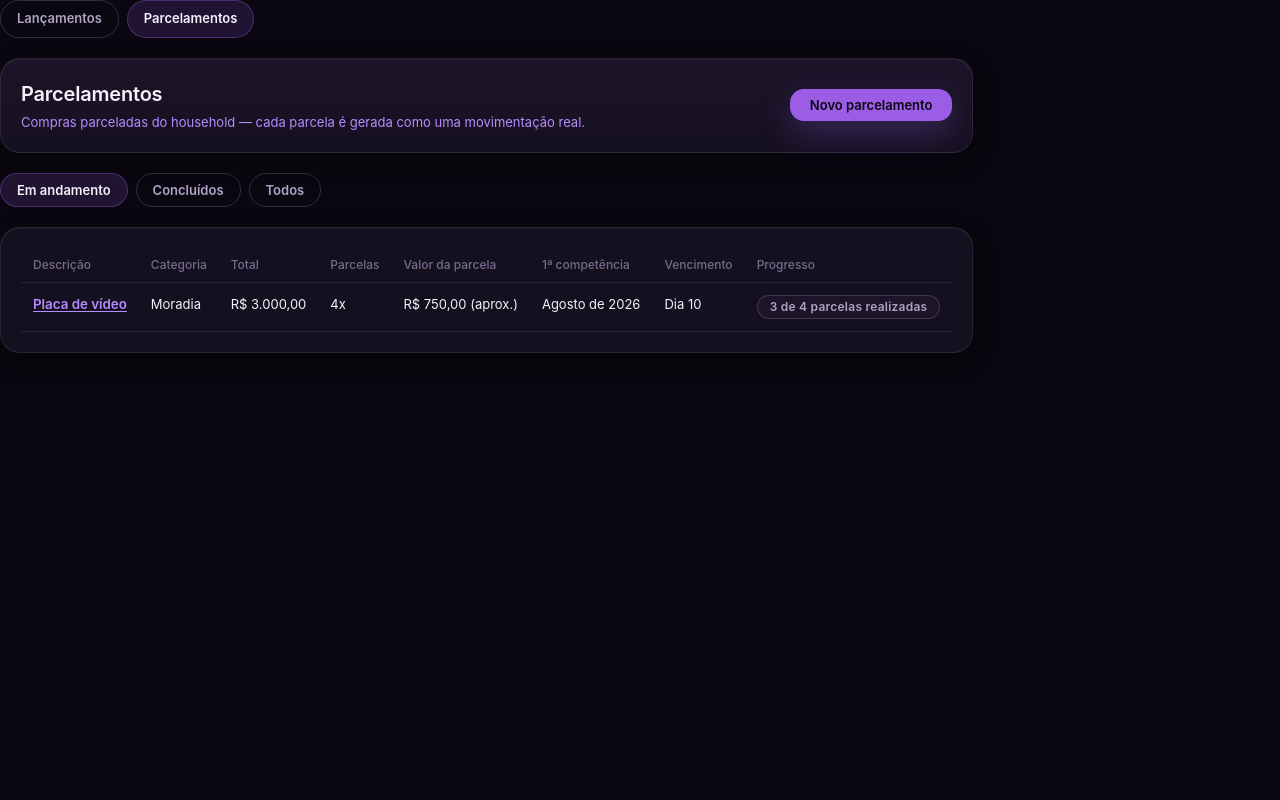
InstallmentPlansPage — realizar parcela a partir do detalhe do parcelamento (integração Parcelamentos ↔ Lançamentos) › a última parcela realizada (3/4 → 4/4) faz o plano sair de "Em andamento" e aparecer em "Concluídos"
This screenshot has width=1280, height=800.
Click the button "Placa de vídeo".
click(80, 304)  # box top-left (33, 296), bottom-right (127, 312)
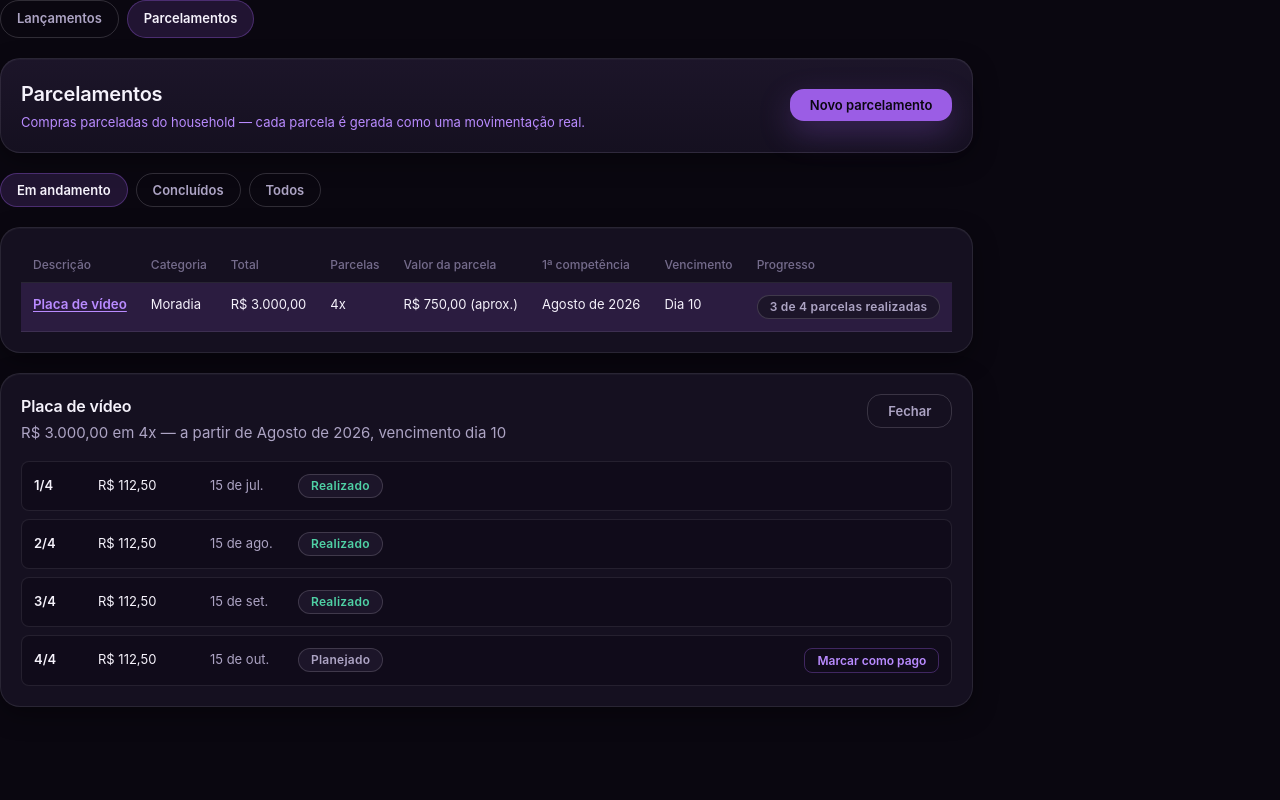
Result: the button with aria-label "Marcar parcela 4 de 4 como paga" is shown
Click the button with aria-label "Marcar parcela 4 de 4 como paga".
click(872, 660)  # box top-left (804, 648), bottom-right (939, 672)
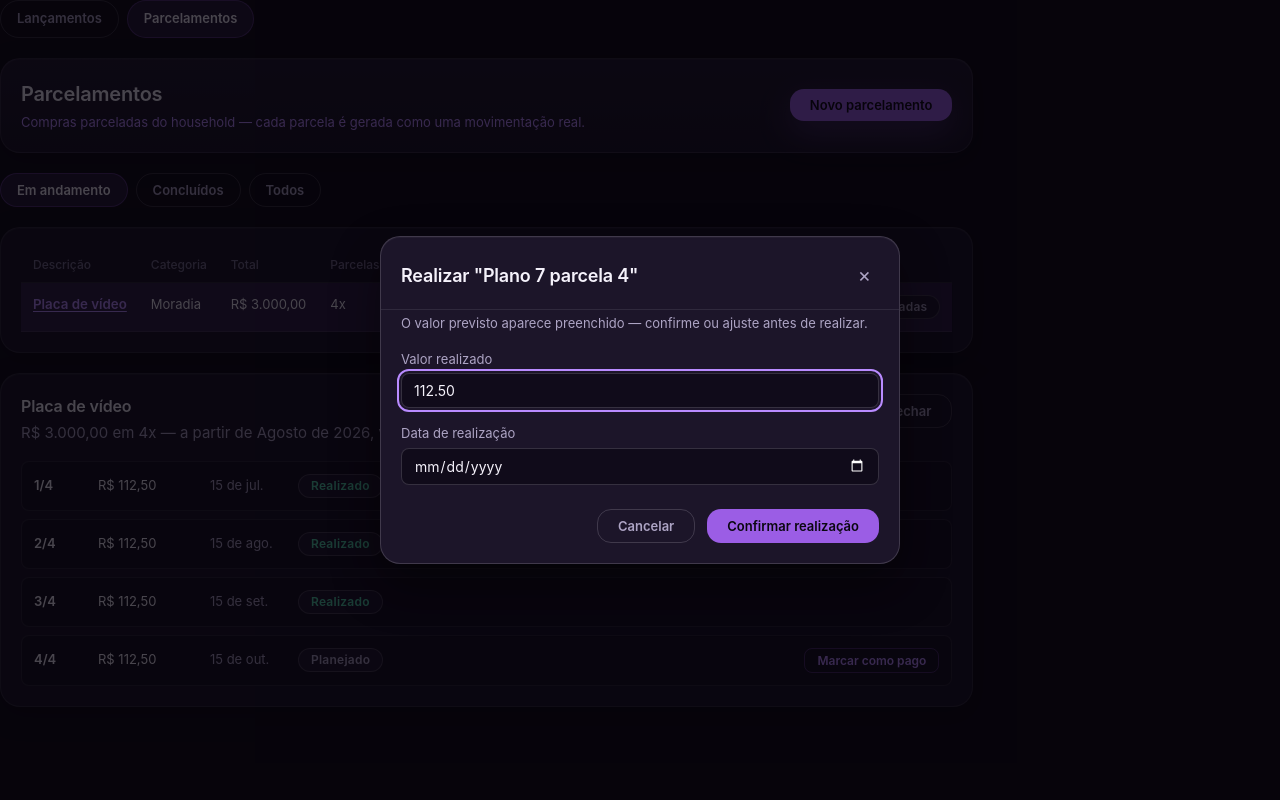
Type "2026-10-15" into the date field labelled "Data de realização".
click(640, 466); type("2026-10-15")  # box top-left (401, 448), bottom-right (879, 485)
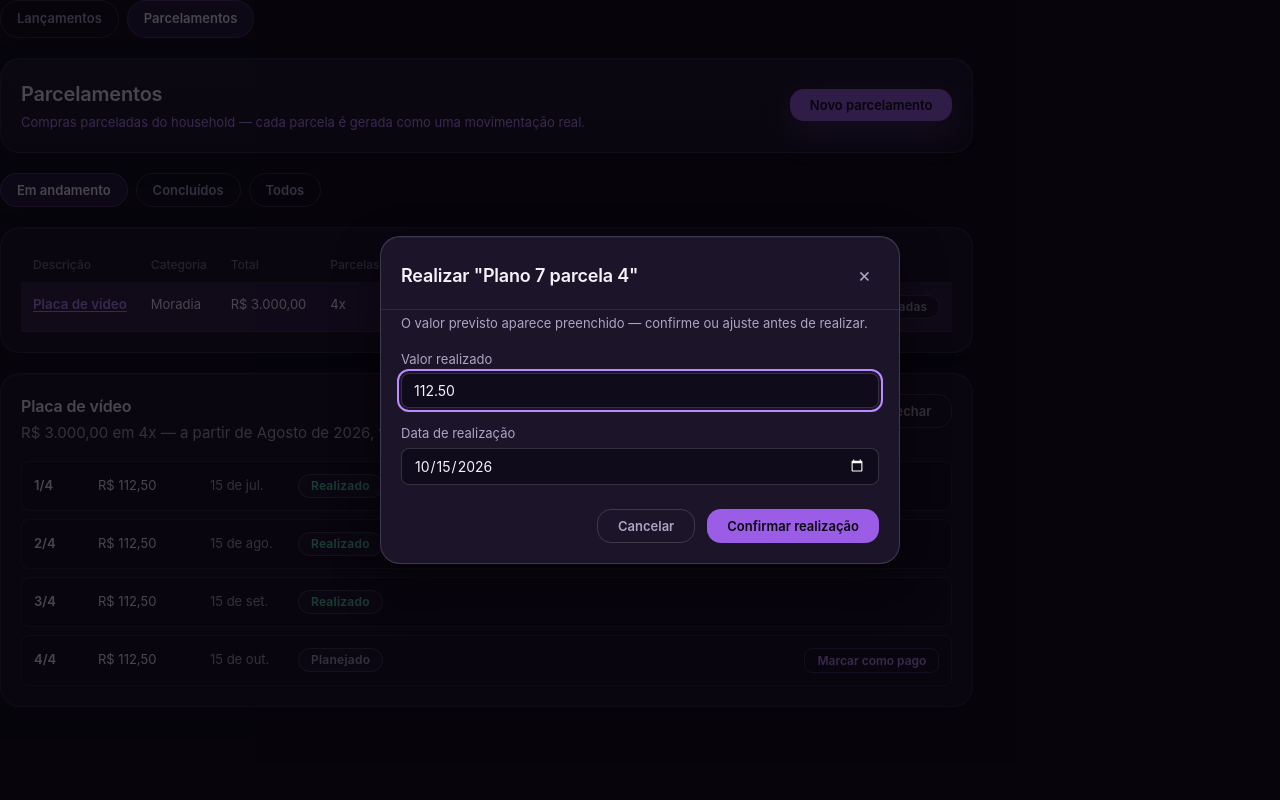
Click the button "Confirmar realização".
click(793, 526)  # box top-left (707, 509), bottom-right (879, 543)
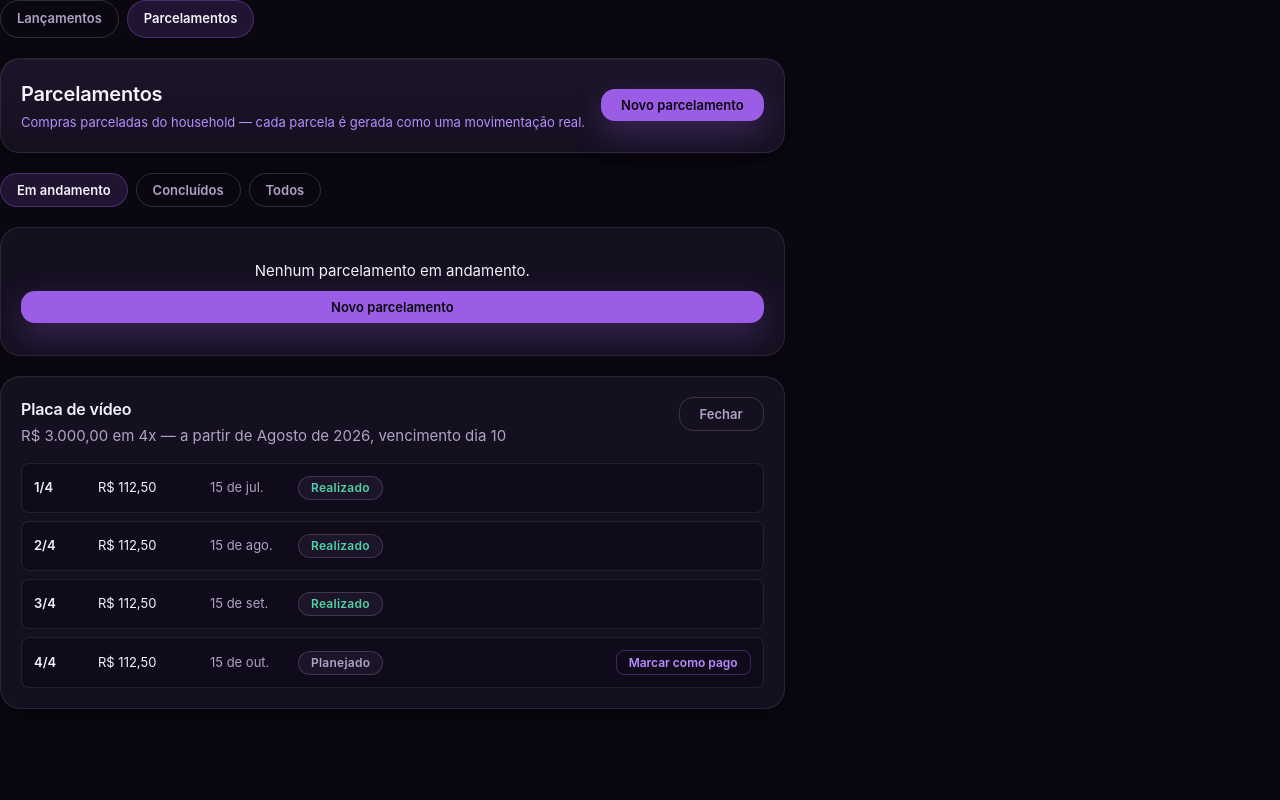
Result: the dialog is gone
Result: the text "Nenhum parcelamento em andamento." is shown at top-left (255, 261), bottom-right (530, 280)
Plano concluído (4/4) some de "Em andamento" automaticamente — sem nenhum status persistido.
Click the button "Concluídos".
click(188, 190)  # box top-left (136, 173), bottom-right (241, 207)
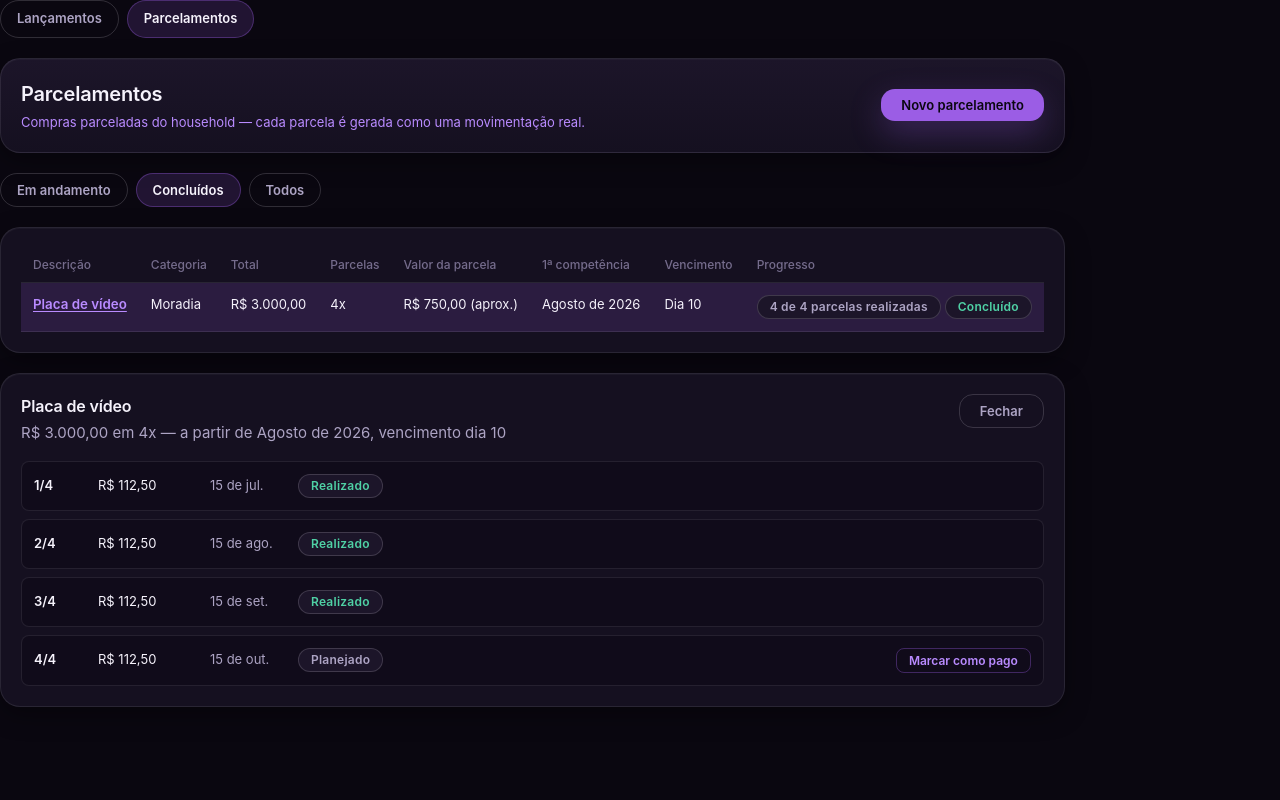
Result: the button "Placa de vídeo" is shown at top-left (33, 296), bottom-right (127, 312)
